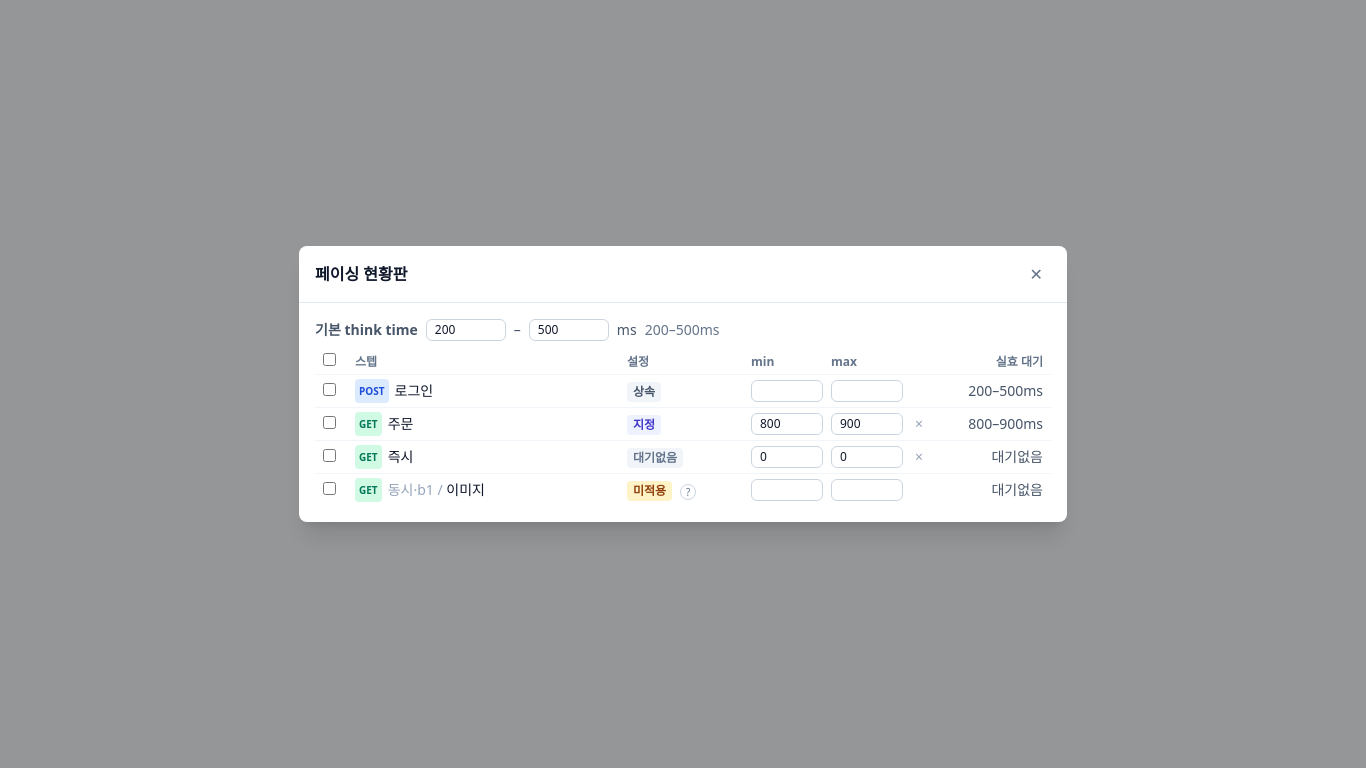
Scenario: ThinkTimeBoard — 기본값 인라인 편집 (R2) › US1: 기본값을 바꾸면 상속 행의 실효 대기가 같은 화면에서 갱신된다
Replace the text in the number field named "현황판 기본 대기 최솟값 (ms)" with "1000" at (466, 330), box top-left (426, 319), bottom-right (506, 341)
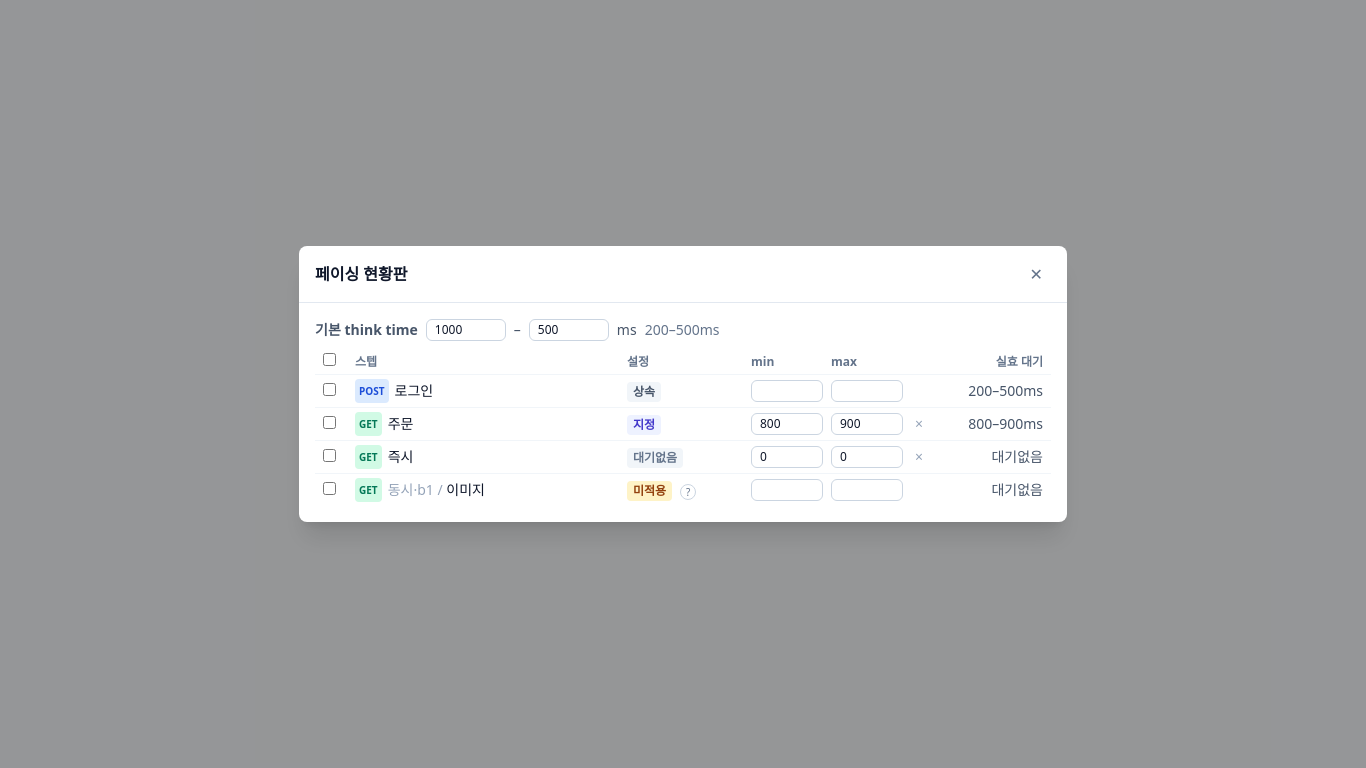
Replace the text in the number field named "현황판 기본 대기 최댓값 (ms)" with "2000" at (569, 330), box top-left (529, 319), bottom-right (609, 341)
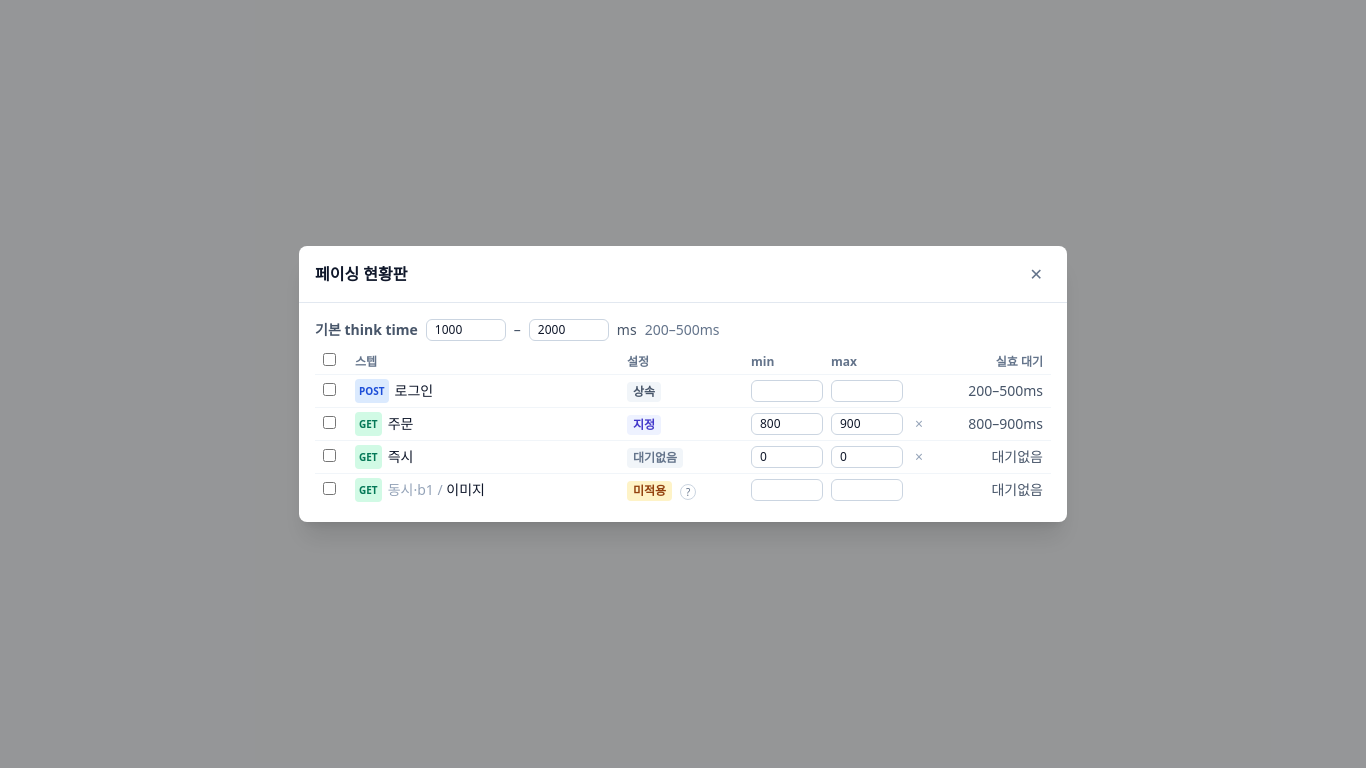
Leave the number field named "현황판 기본 대기 최댓값 (ms)", box top-left (529, 319), bottom-right (609, 341)
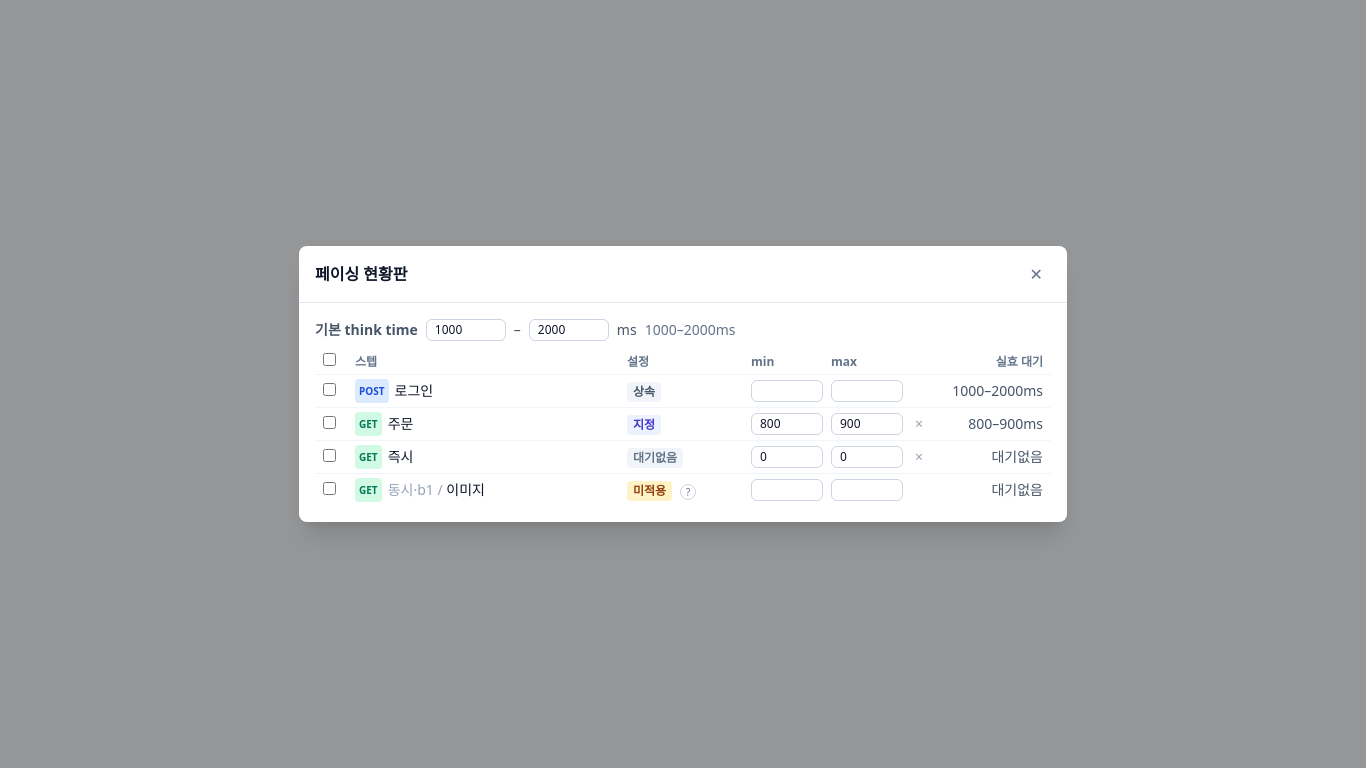
Now the cell with test id "effective" reads "1000–2000ms", box top-left (952, 381), bottom-right (1043, 400)
